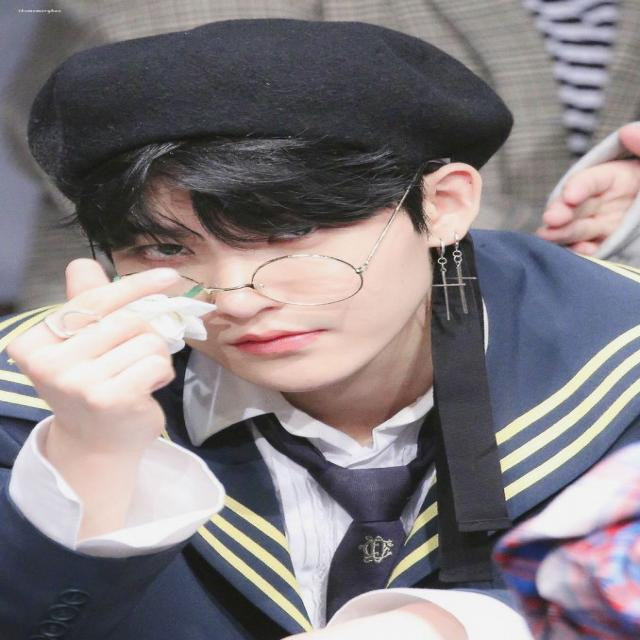Glasses: (88, 244, 394, 312)
